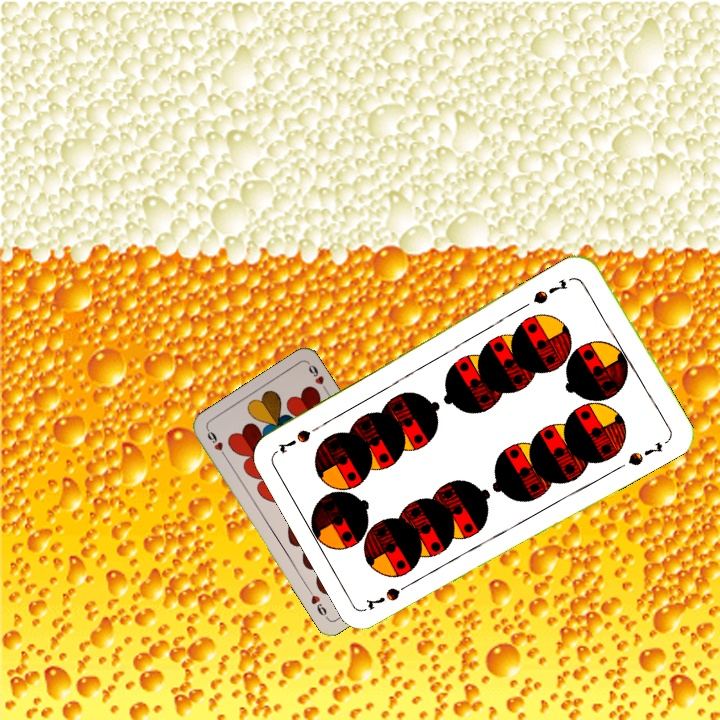H9: (203, 426, 230, 462)
S7: (361, 576, 418, 613), (529, 274, 570, 307)
